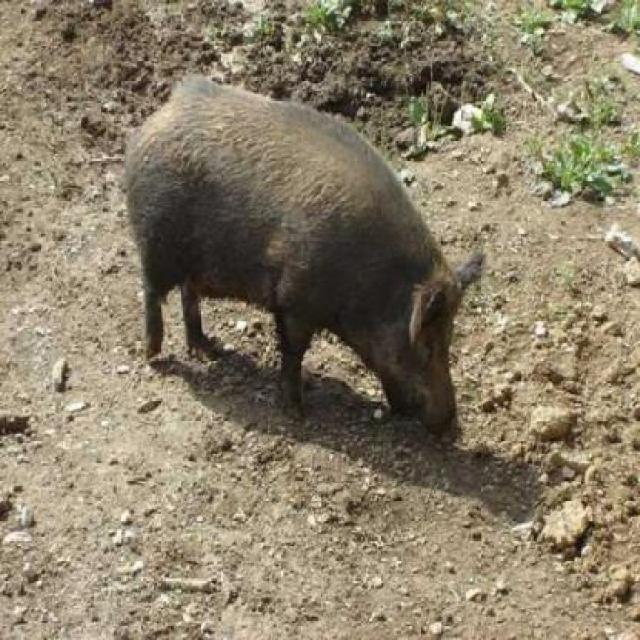Boar: (109, 79, 517, 458)
